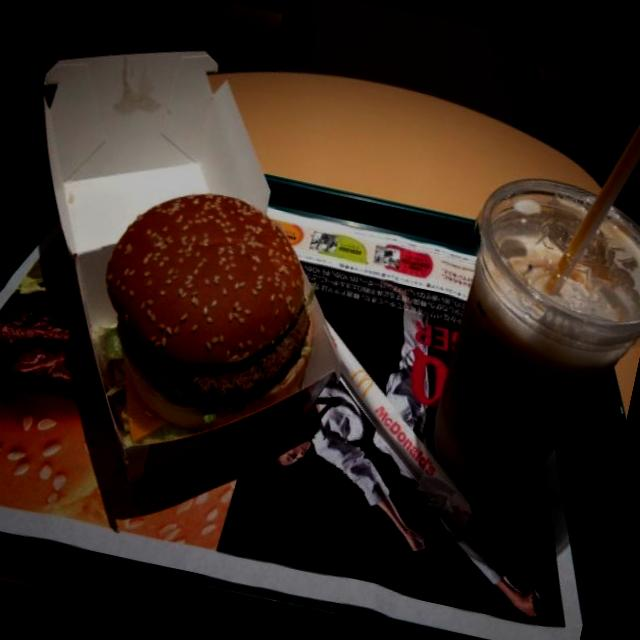Hamburger: (76, 166, 350, 448)
